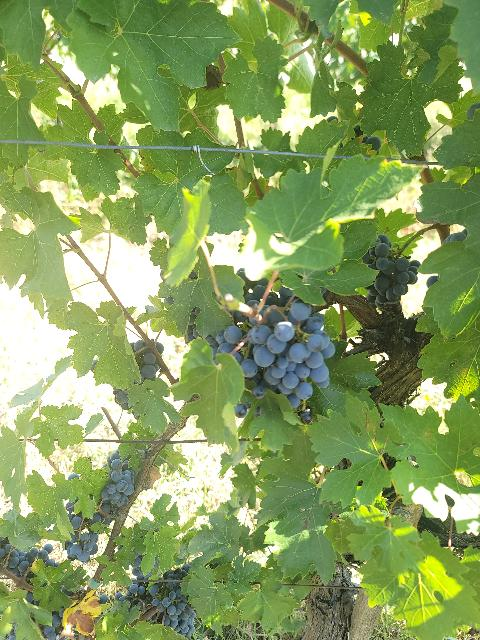grapes: (250, 301, 335, 400), (362, 234, 420, 308)
